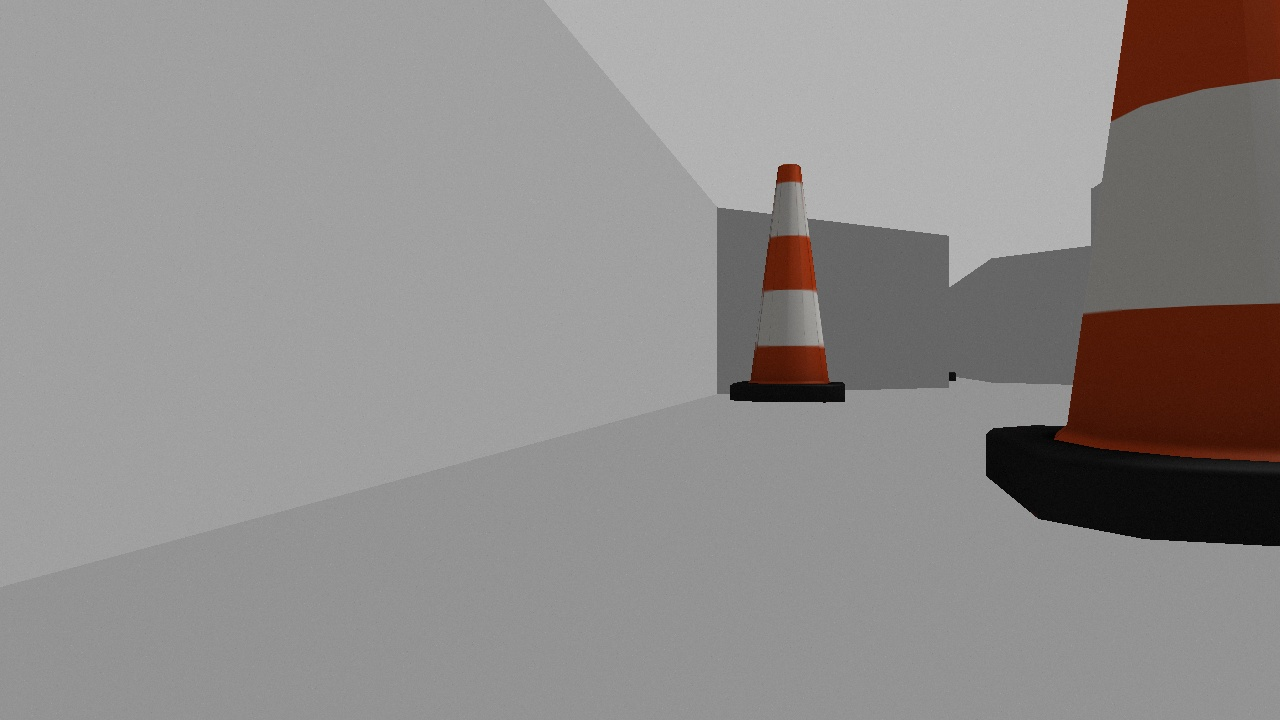barricade: (978, 1, 1280, 550), (725, 150, 857, 408)
